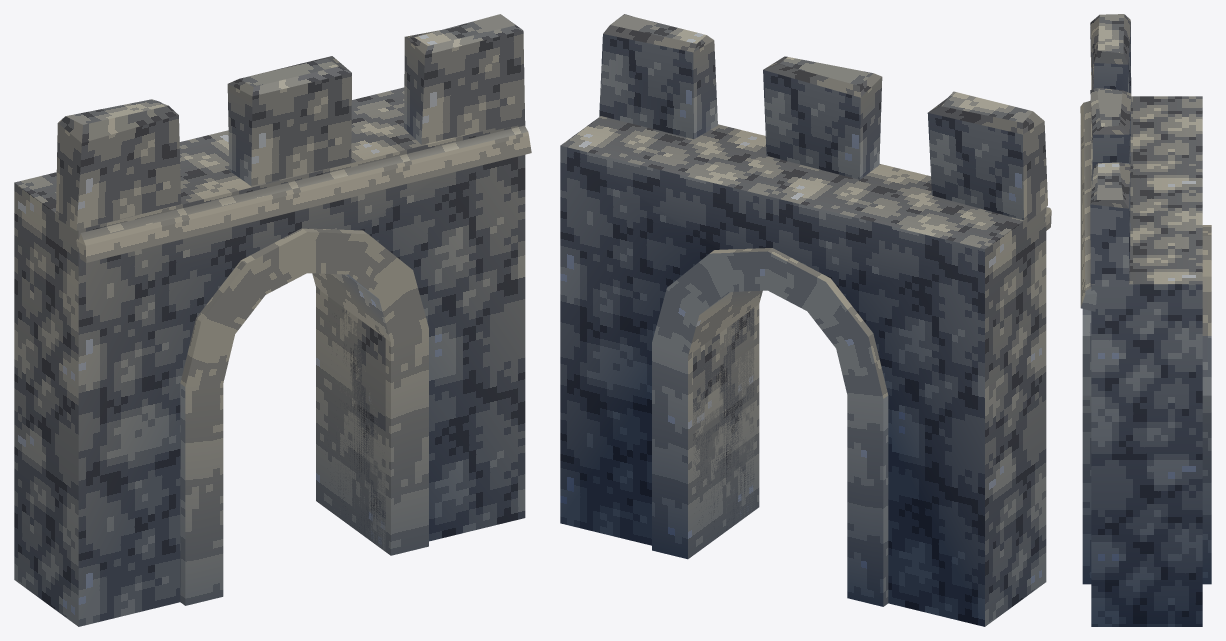
File: vlg.wall__postern.glb
The picture shows the model from 3 angles, left to right: view 1: azimuth 30°, elevation 25°; view 2: azimuth 150°, elevation 25°; view 3: azimuth 270°, elevation 25°; orthographic projection. The views are drawn at different scales.
Parts seen in each view (by area): view 1: kit_wall, kit_top, kit_fittings; view 2: kit_wall, kit_fittings, kit_top; view 3: kit_wall, kit_top, kit_fittings.
Boxes of the visible parts, box(x1,y1,x2,y2) form: kit_wall: box(14, 87, 525, 626); kit_top: box(56, 14, 531, 262); kit_fittings: box(180, 228, 428, 605); kit_wall: box(560, 116, 1046, 626); kit_fittings: box(652, 248, 888, 606); kit_top: box(599, 14, 1051, 230); kit_wall: box(1091, 96, 1202, 626); kit_top: box(1080, 14, 1131, 311); kit_fittings: box(1082, 225, 1211, 584).
Bounding box in the file's own units: 4.03 × 4.25 × 1.18.
Materials: 2 (2 with a texture image).
